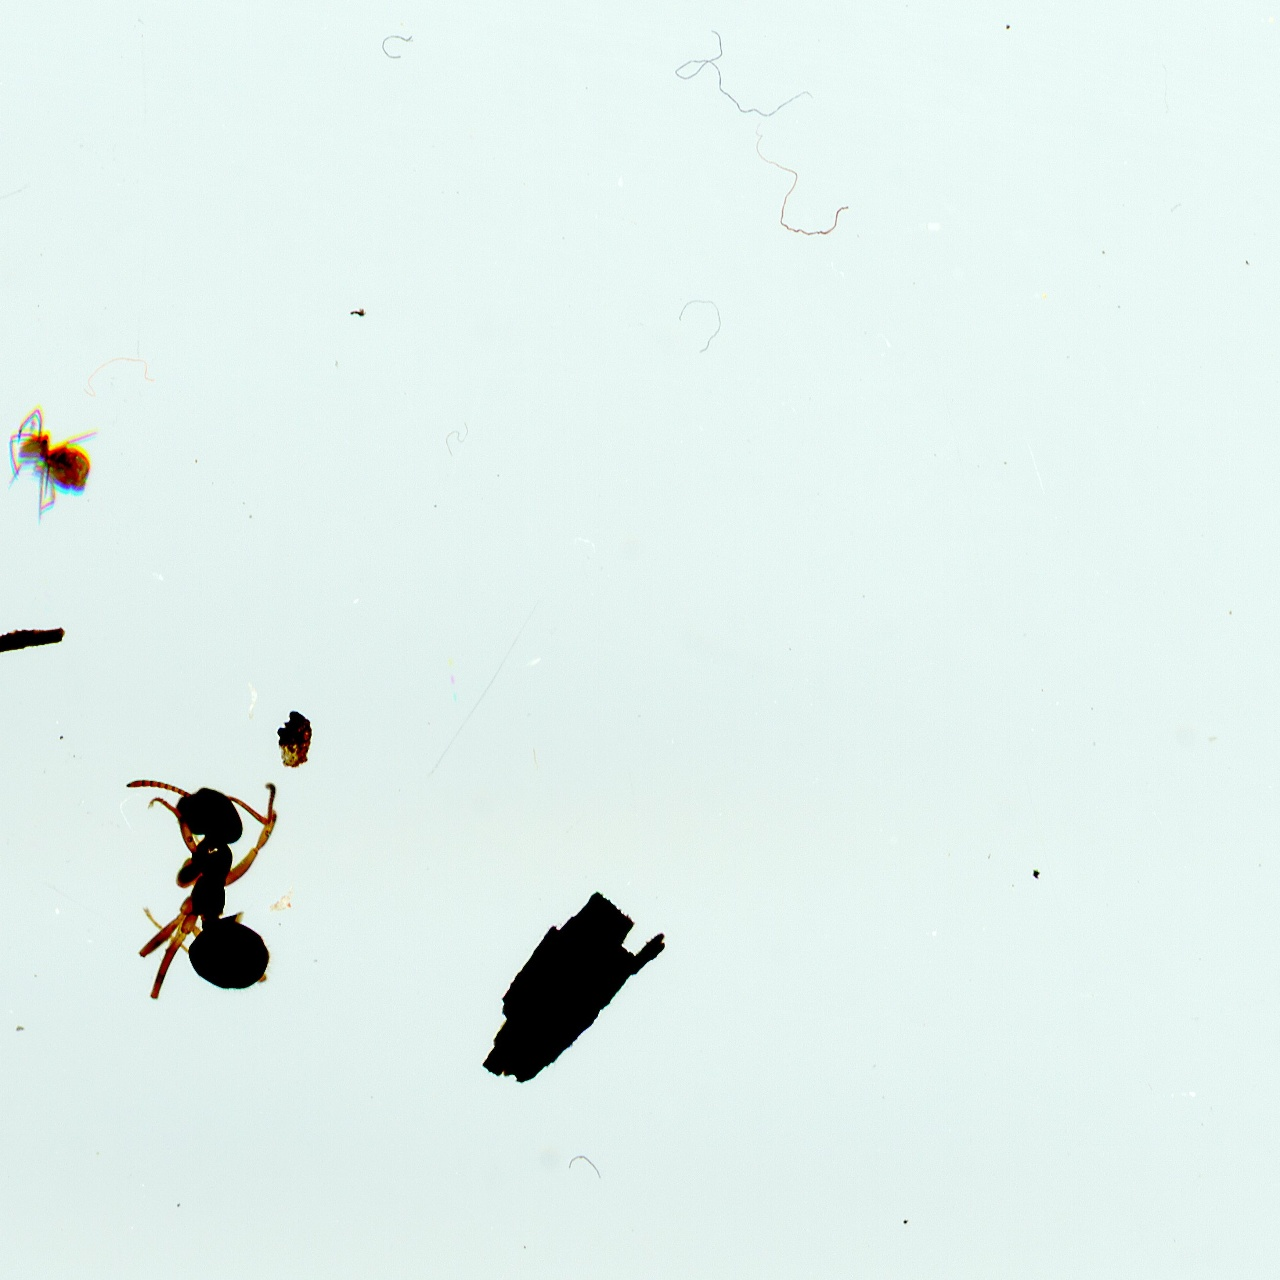arthropod: (125, 772, 285, 1009), (1, 402, 103, 528)
